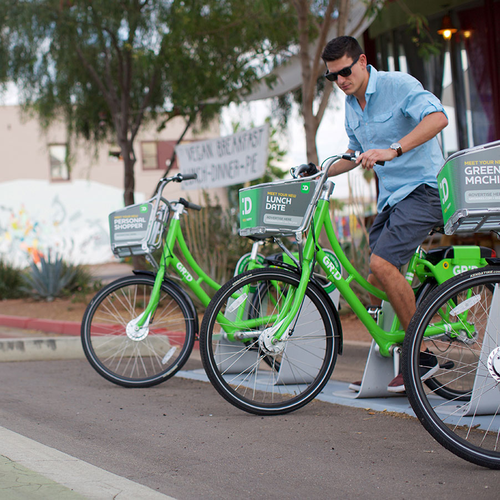bikerider: (201, 24, 493, 443)
